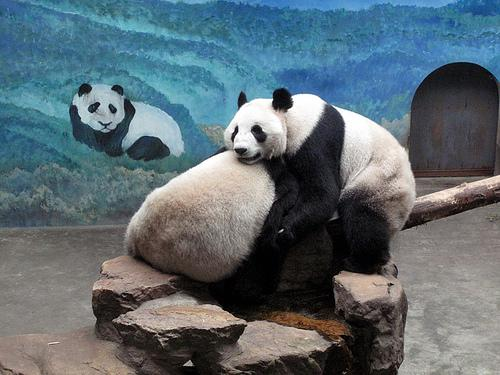panda: (125, 88, 415, 302)
